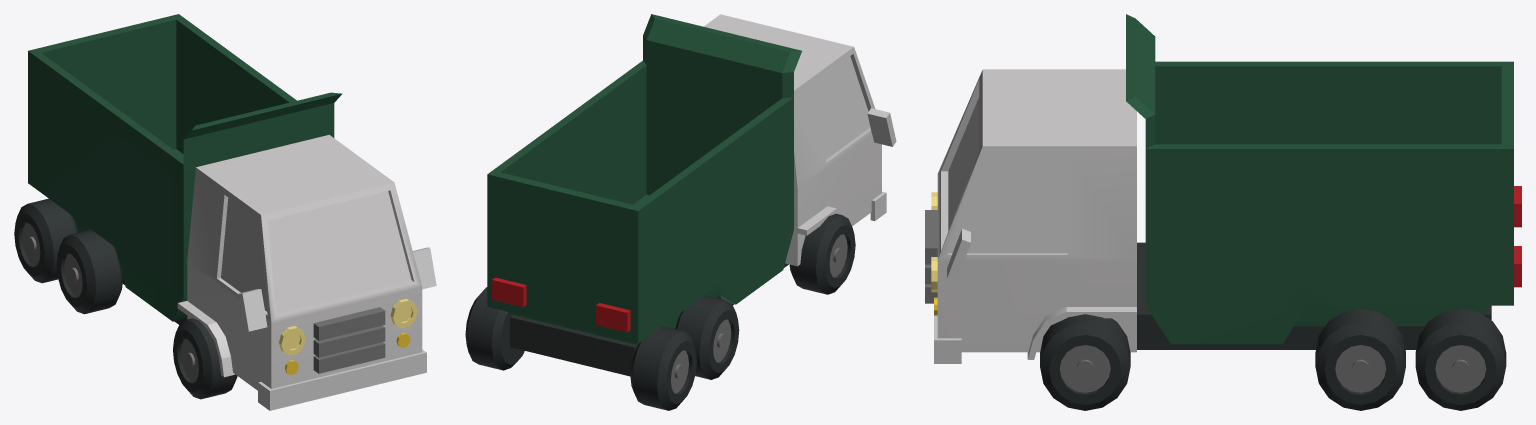
File: obj_trashcar.fbx
3 views of the same model, side by side, from view 1: azimuth 30°, elevation 25°; view 2: azimuth 150°, elevation 25°; view 3: azimuth 270°, elevation 25° (orthographic). The views are drawn at different scales.
Visible parts, largest first — view 1: obj_trashcar; view 2: obj_trashcar; view 3: obj_trashcar.
Part boxes in pixels (x1,y1,x2,y2): obj_trashcar: [14, 14, 436, 410]; obj_trashcar: [465, 14, 896, 410]; obj_trashcar: [925, 14, 1521, 410].
Size of the model in its own units: 2 by 2.37 by 4.34.
2 materials, 2 textured.
